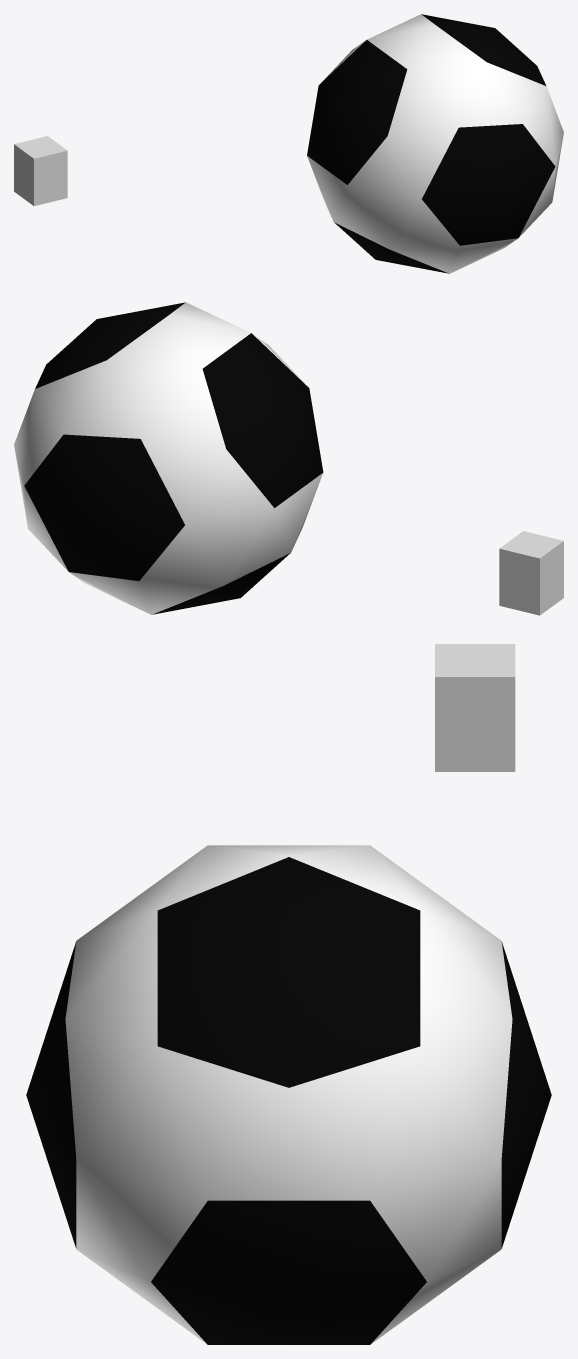
The model's file is SoccerBall.FBX.
The picture shows the model from 3 angles, top to bottom: view 1: azimuth 30°, elevation 25°; view 2: azimuth 150°, elevation 25°; view 3: azimuth 270°, elevation 25°; orthographic projection. The views are drawn at different scales.
Visible parts, largest first — view 1: SoccerBall, Master Objects; view 2: SoccerBall, Master Objects; view 3: SoccerBall, Master Objects.
Boxes of the visible parts, x1,y1,x2,y2 form: SoccerBall: (307, 14, 563, 273); Master Objects: (14, 136, 67, 206); SoccerBall: (14, 302, 323, 614); Master Objects: (499, 531, 563, 615); SoccerBall: (26, 845, 551, 1344); Master Objects: (435, 644, 515, 771).
Size of the model in its own units: 146 by 70 by 70.
Materials: 1 (1 with a texture image).
